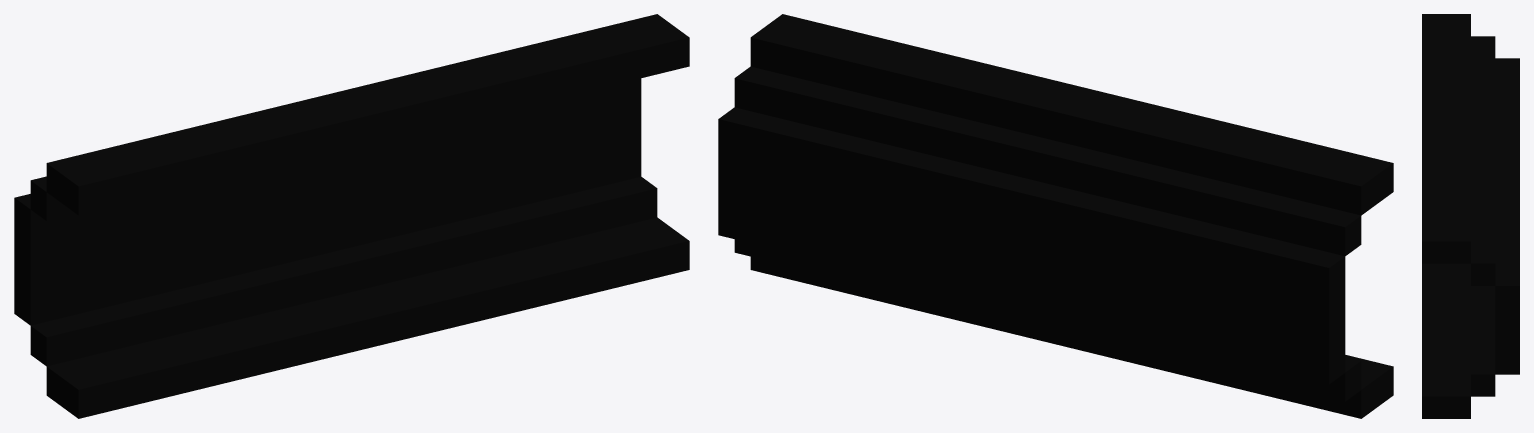
File: LargeGauge_Empty_Mid.002.fbx
3 views of the same model, side by side, from view 1: azimuth 30°, elevation 25°; view 2: azimuth 150°, elevation 25°; view 3: azimuth 270°, elevation 25° (orthographic). The views are drawn at different scales.
Parts seen in each view (by area): view 1: LargeGauge_Empty_Mid.002; view 2: LargeGauge_Empty_Mid.002; view 3: LargeGauge_Empty_Mid.002.
Boxes of the visible parts, box(x1,y1,x2,y2) form: LargeGauge_Empty_Mid.002: box(14, 14, 689, 418); LargeGauge_Empty_Mid.002: box(718, 14, 1393, 418); LargeGauge_Empty_Mid.002: box(1422, 14, 1519, 418).
Size of the model in its own units: 2.2 by 0.8 by 0.4.
